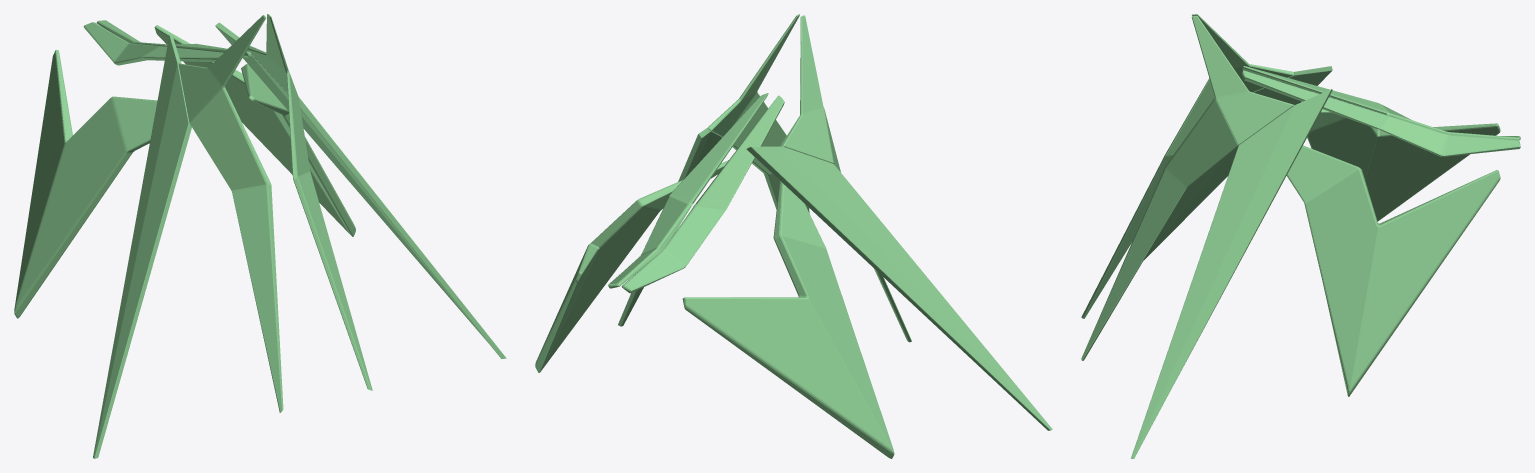
The model's file is shell.fbx.
3 renders of one model, left to right at view 1: azimuth 30°, elevation 25°; view 2: azimuth 150°, elevation 25°; view 3: azimuth 270°, elevation 25°, orthographic. The views are drawn at different scales.
Parts seen in each view (by area): view 1: shellback, shellfrontT, shellfrontB, shelltop; view 2: shellback, shellfrontB, shelltop, shellfrontT; view 3: shellback, shellfrontB, shellfrontT, shelltop.
Boxes of the visible parts, x1,y1,x2,y2 form: shellback: (14, 25, 355, 318); shellfrontT: (178, 14, 372, 412); shellfrontB: (93, 22, 506, 458); shelltop: (83, 20, 251, 65); shellback: (535, 160, 894, 458); shellfrontB: (618, 128, 1052, 430); shelltop: (608, 93, 784, 293); shellfrontT: (707, 14, 911, 342); shellback: (1286, 109, 1500, 396); shellfrontB: (1131, 66, 1332, 458); shellfrontT: (1081, 14, 1294, 360); shelltop: (1242, 66, 1520, 156).
Bounding box in the file's own units: 37972 × 32531 × 37027.
